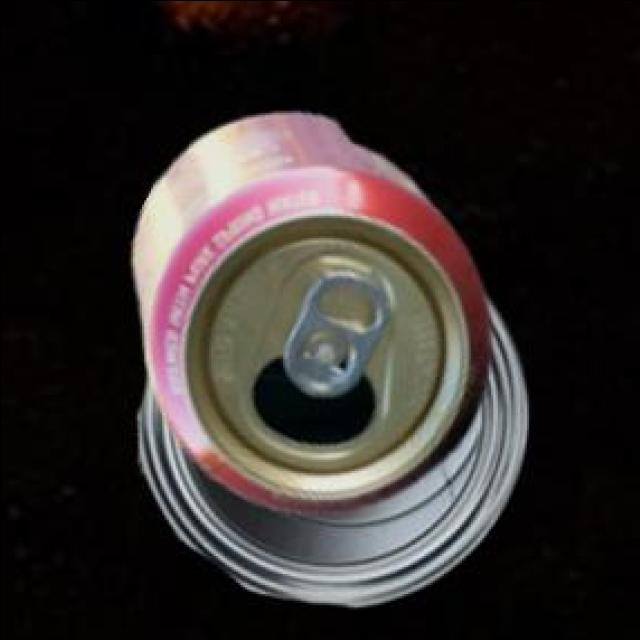logam: (135, 109, 493, 509), (142, 290, 529, 601)
